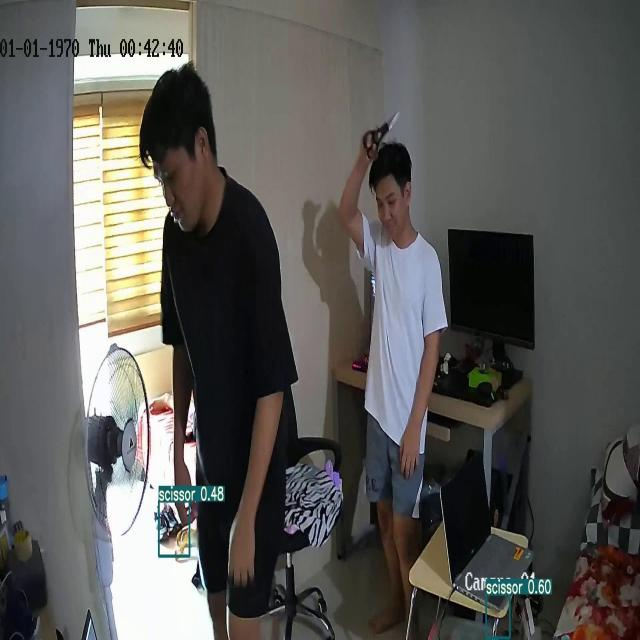scissor: (364, 112, 400, 158)
